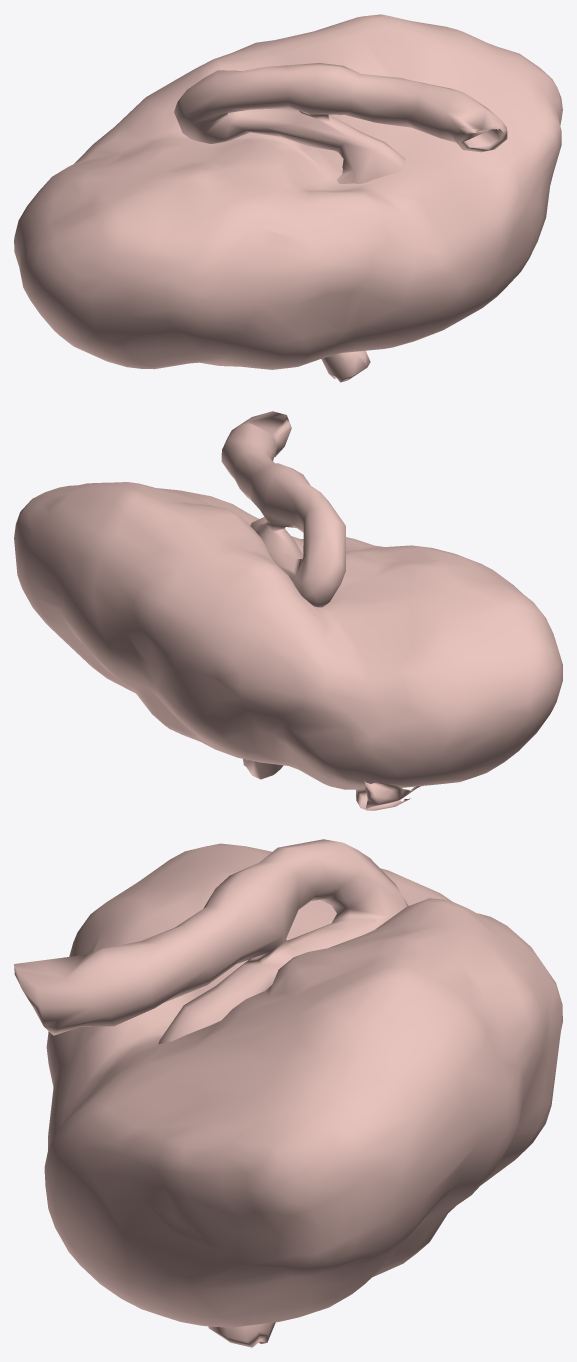
File: 3d-nih-f-lymph-node_lod_20.glb
The picture shows the model from 3 angles, top to bottom: view 1: azimuth 30°, elevation 25°; view 2: azimuth 150°, elevation 25°; view 3: azimuth 270°, elevation 25°; orthographic projection. The views are drawn at different scales.
Parts seen in each view (by area): view 1: Yao_capsule_of_lymph_node, Yao_efferent_lymph_node, Yao_afferent_lymphatic_vessel; view 2: Yao_capsule_of_lymph_node, Yao_efferent_lymph_node, Yao_afferent_lymphatic_vessel; view 3: Yao_capsule_of_lymph_node, Yao_efferent_lymph_node, Yao_afferent_lymphatic_vessel.
Boxes of the visible parts, <box> form: Yao_capsule_of_lymph_node: <box>14,14,562,369</box>; Yao_efferent_lymph_node: <box>174,63,507,183</box>; Yao_afferent_lymphatic_vessel: <box>321,350,370,382</box>; Yao_capsule_of_lymph_node: <box>14,482,562,789</box>; Yao_efferent_lymph_node: <box>221,411,345,607</box>; Yao_afferent_lymphatic_vessel: <box>243,759,421,810</box>; Yao_capsule_of_lymph_node: <box>44,843,562,1327</box>; Yao_efferent_lymph_node: <box>14,839,408,1044</box>; Yao_afferent_lymphatic_vessel: <box>208,1322,275,1347</box>.
Size of the model in its own units: 0.0197 by 0.0113 by 0.0123.
